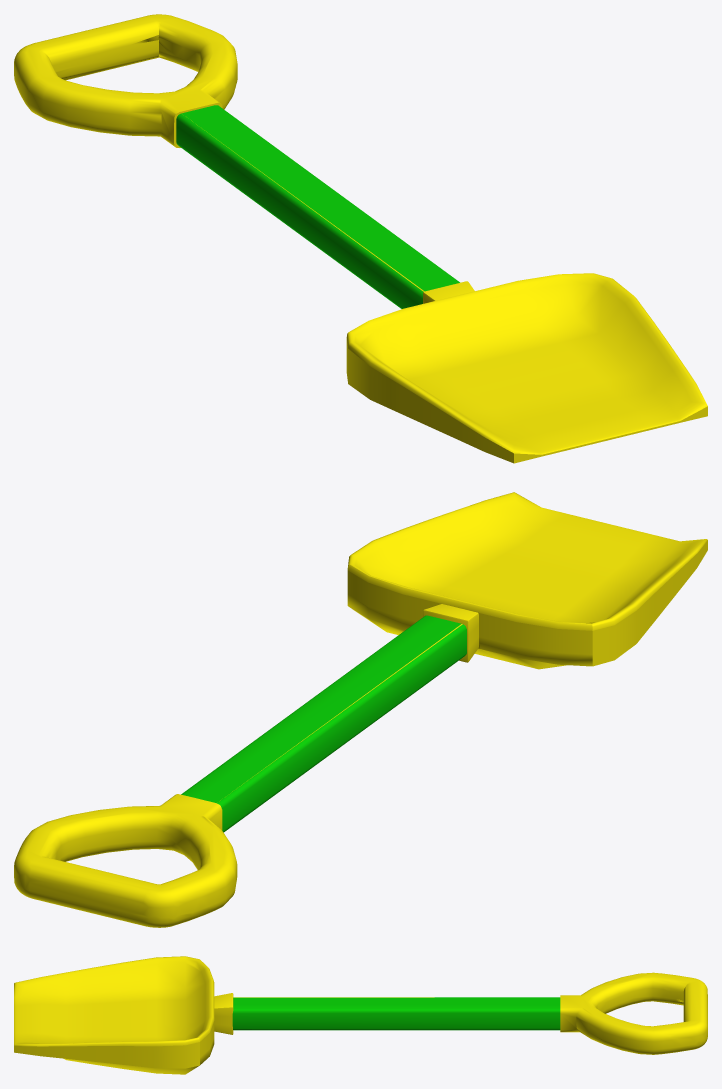
The model's file is Spade.FBX.
3 views of the same model, one above another, from view 1: azimuth 30°, elevation 25°; view 2: azimuth 150°, elevation 25°; view 3: azimuth 270°, elevation 25° (orthographic). The views are drawn at different scales.
Visible parts, largest first — view 1: spade; view 2: spade; view 3: spade.
Boxes of the visible parts, box(x1,y1,x2,y2) form: spade: box(14, 14, 707, 463); spade: box(14, 492, 707, 927); spade: box(14, 956, 707, 1074).
Bounding box in the file's own units: 8.75 × 2.17 × 29.85.
